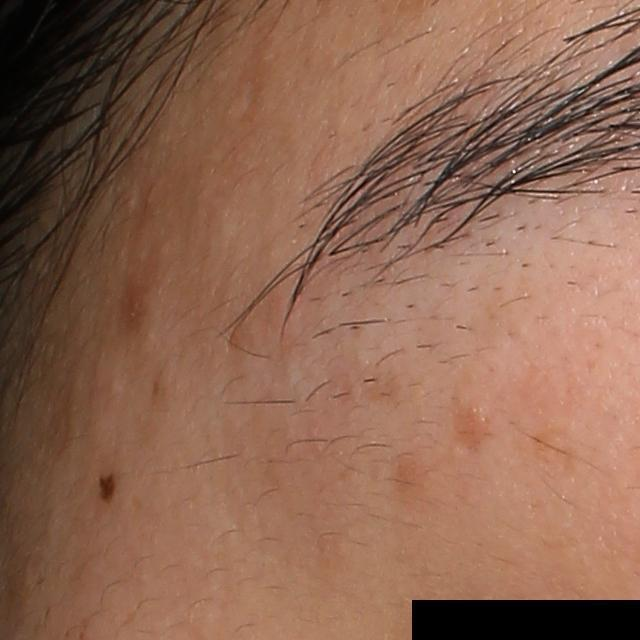nevus: (98, 472, 118, 505)
